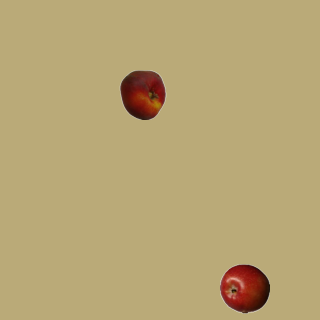Apple Braeburn: (219, 263, 269, 313)
Nectarine Flat: (117, 69, 167, 119)
